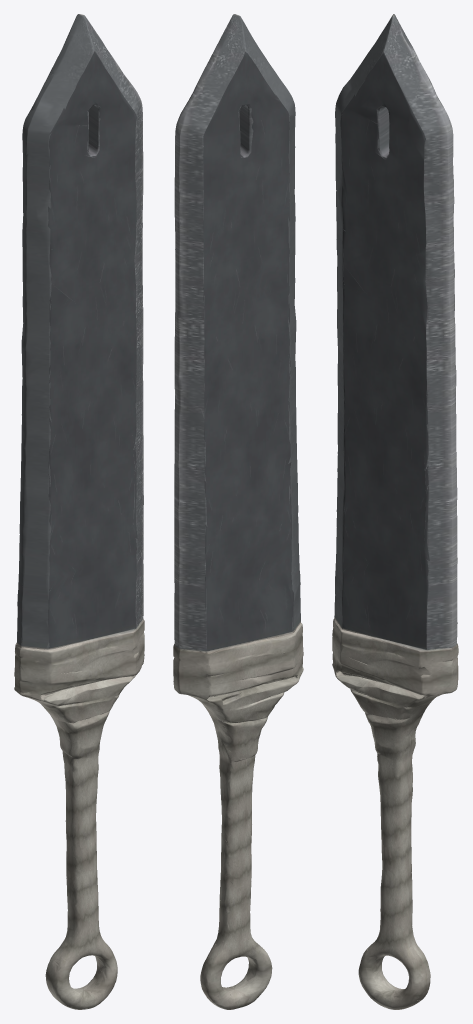
Rendered from wpn_megumi_sword.glb.
3 views of the same model, side by side, from view 1: azimuth 30°, elevation 25°; view 2: azimuth 210°, elevation 25°; view 3: azimuth 330°, elevation 25° (orthographic).
Parts seen in each view (by area): view 1: megumi_sword; view 2: megumi_sword; view 3: megumi_sword.
Boxes of the visible parts, x1,y1,x2,y2 form: megumi_sword: (14,14,144,1009); megumi_sword: (173,14,303,1009); megumi_sword: (332,14,458,1009).
Size of the model in its own units: 0.1038 by 0.8 by 0.0443.
Materials: 1 (1 with a texture image).
